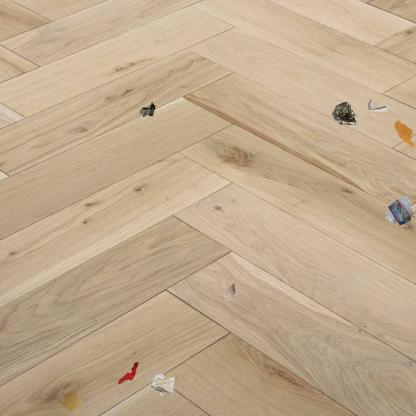dirty: (384, 195, 416, 227), (149, 370, 179, 398), (117, 359, 139, 387), (332, 101, 356, 125), (365, 96, 389, 114), (221, 281, 238, 303), (138, 100, 155, 120)
liquid: (60, 389, 85, 415), (394, 119, 416, 147)
